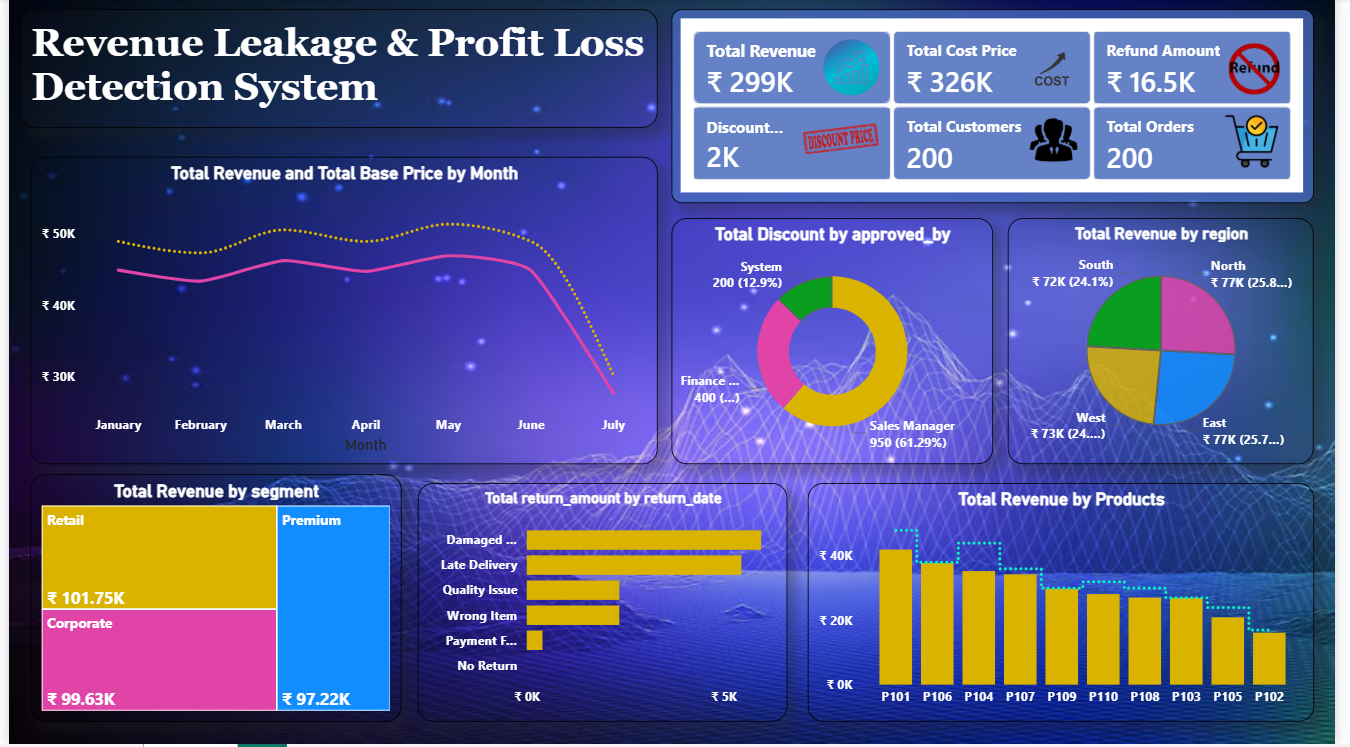

The dashboard page shown, as its layout file describes it:
{"tool":"powerbi","page":{"name":"Page 1","canvas":[1280,720],"ordinal":0},"visuals":[{"type":"cardVisual","title":"Total Revenue","fields":{"Data":["Sum(billing.billed_amount)","Sum(orders.Base Price)","Sum(returns.return_amount)","Sum(discounts.discount_pct)","Count(customers.customer_id)","Count(orders.order_id)"]},"box":[639.4,10.9,620.1,187],"z":0},{"type":"lineChart","title":"Total Revenue and Total  Base Price by Month","fields":{"Category":["orders.order_date.Variation.Date Hierarchy.Month"],"Y":["Sum(billing.billed_amount)","Sum(orders.Base Price)"]},"box":[20.5,153.2,605.6,296.8],"z":1000},{"type":"clusteredBarChart","title":"Total return_amount by return_date","fields":{"Y":["Sum(returns.return_amount)"],"Category":["returns.return_reason"]},"box":[394.5,468.1,357.1,230.4],"z":2000},{"type":"treemap","title":"Total Revenue by segment","fields":{"Group":["customers.segment"],"Values":["Sum(billing.billed_amount)"]},"box":[20.5,459.7,358.3,238.9],"z":3000},{"type":"pieChart","title":"Total Revenue by region","fields":{"Category":["customers.region"],"Y":["Sum(billing.billed_amount)"]},"box":[963.9,212.3,295.6,237.7],"z":4000},{"type":"lineStackedColumnComboChart","title":"Total Revenue by Products","fields":{"Category":["orders.product_id"],"Y":["Sum(billing.billed_amount)"],"Y2":["Sum(orders.Base Price)"]},"box":[770.9,468.1,488.6,230.4],"z":5000},{"type":"donutChart","title":"Total Discount  by approved_by","fields":{"Category":["discounts.approved_by"],"Y":["Sum(discounts.discount_pct)"]},"box":[639.4,212.3,310.1,237.7],"z":6000},{"type":"textbox","box":[10.9,10.9,615.3,114.6],"z":7000}]}

Visuals, with their boxes in screenshot pixels (x1, y1, x2, y2), scaled from the page's 1280x720 canvas onto the 1350x747 screenshot:
"Total Revenue" cardVisual: locate(674, 11, 1328, 205)
"Total Revenue and Total  Base Price by Month" lineChart: locate(22, 159, 660, 467)
"Total return_amount by return_date" clusteredBarChart: locate(416, 486, 793, 725)
"Total Revenue by segment" treemap: locate(22, 477, 400, 725)
"Total Revenue by region" pieChart: locate(1017, 220, 1328, 467)
"Total Revenue by Products" lineStackedColumnComboChart: locate(813, 486, 1328, 725)
"Total Discount  by approved_by" donutChart: locate(674, 220, 1001, 467)
textbox: locate(11, 11, 660, 130)
